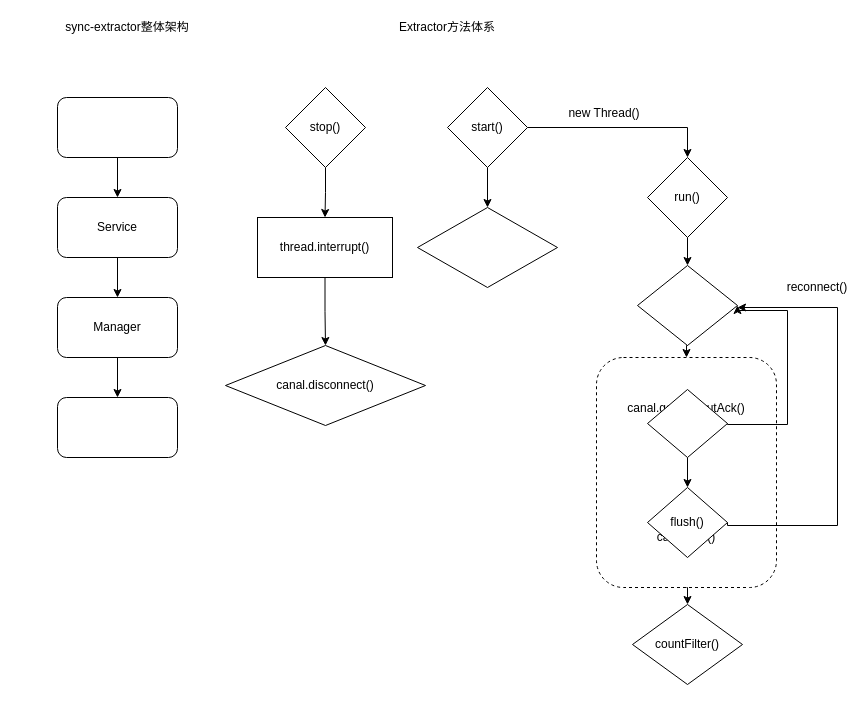
The diagram is 865 pixels wide and 702 high, and some of its shapes have lost their labels. The centre of each missing label's shape, as x and y in pixels:
"Common" goes at point 117,427.
"configCanal()" goes at point 487,247.
"connect()" goes at point 687,305.
"parse()" goes at point 687,423.
"Web" goes at point 117,127.
